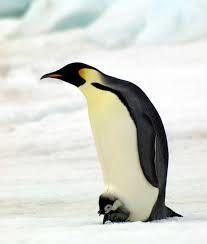emporer: (34, 55, 179, 238)
